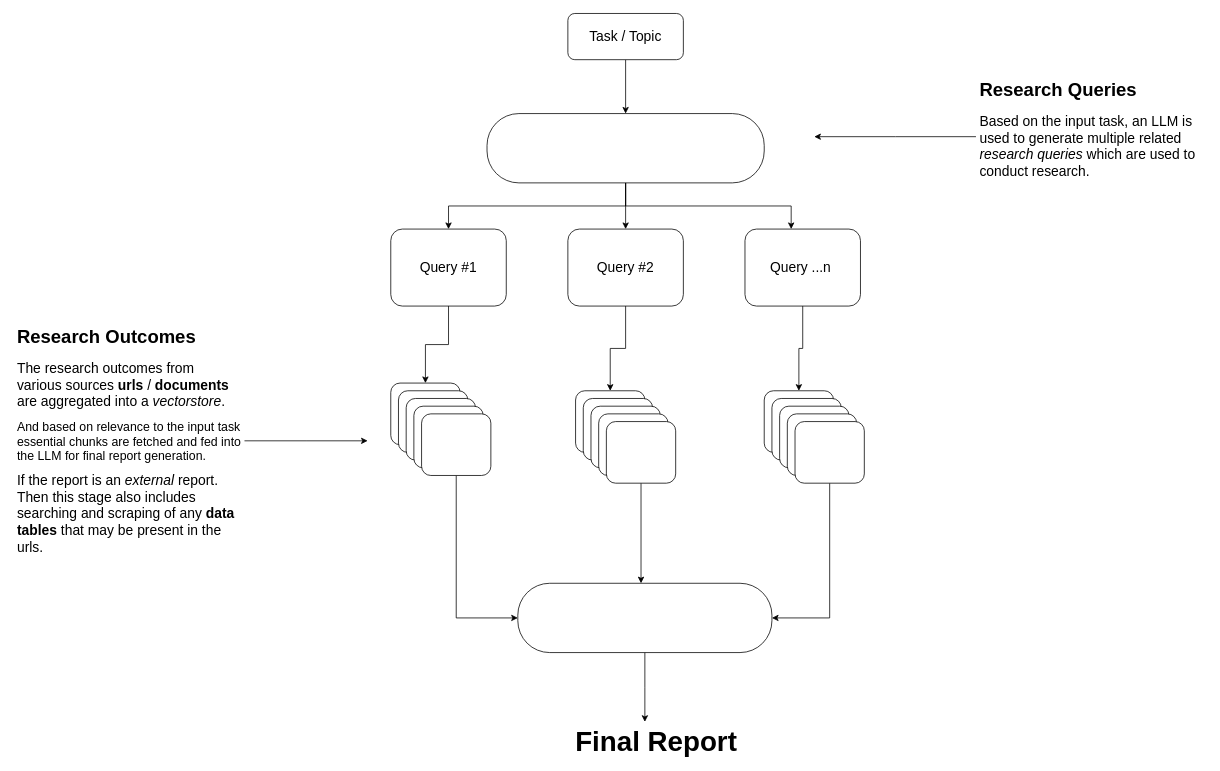
The diagram is 1220 pixels wide and 771 high, and some of its shapes have lost their labels. The centre of each missing label's shape, as x and y in pixels:
"Research Agent (LLM)" goes at [644,618].
"Research Queries Generator" goes at [625,148].
